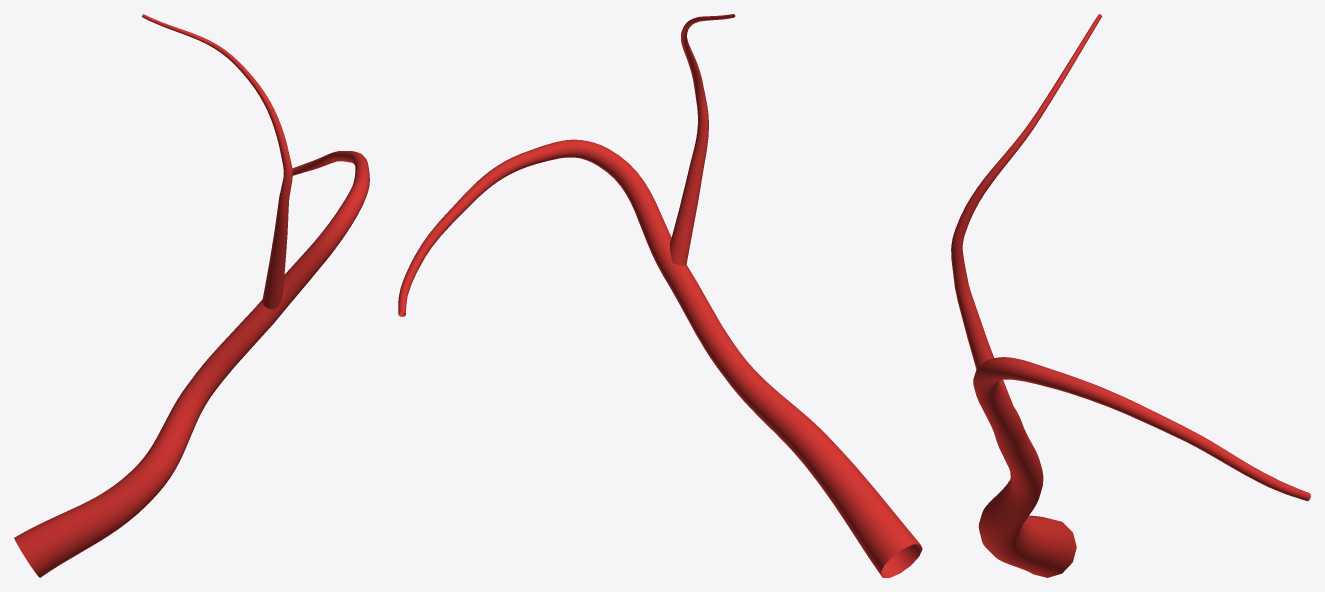
File: circulatorio-anterior-circumflex-humeral-vein-l.glb
3 views of the same model, side by side, from view 1: azimuth 30°, elevation 25°; view 2: azimuth 150°, elevation 25°; view 3: azimuth 270°, elevation 25° (orthographic). The views are drawn at different scales.
Visible parts, largest first — view 1: Anterior circumflex humeral vein.l; view 2: Anterior circumflex humeral vein.l; view 3: Anterior circumflex humeral vein.l.
Boxes of the visible parts, x1,y1,x2,y2 form: Anterior circumflex humeral vein.l: [14, 14, 369, 577]; Anterior circumflex humeral vein.l: [398, 14, 922, 577]; Anterior circumflex humeral vein.l: [951, 14, 1310, 577].
Bounding box in the file's own units: 0.0516 × 0.0646 × 0.0329.
